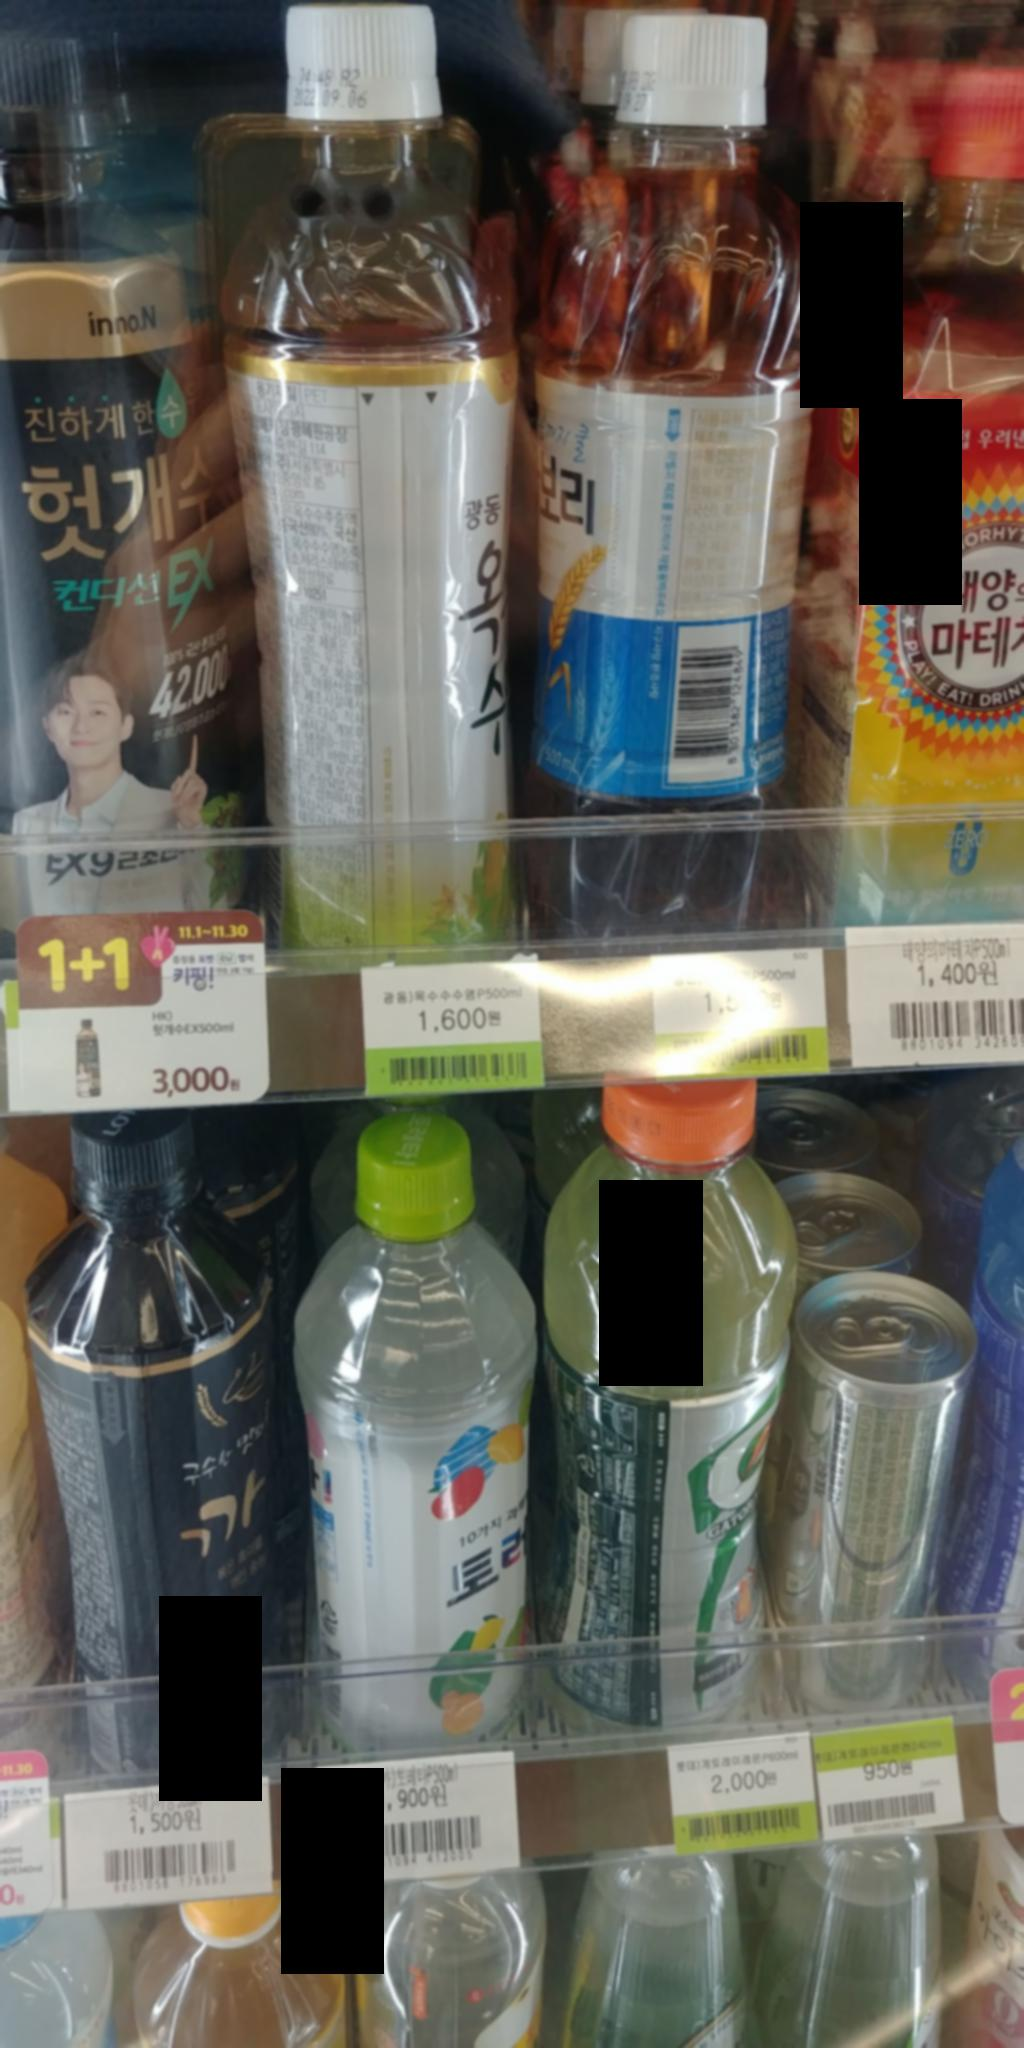gatorade_lemon: (522, 1063, 799, 1748)
haneulbori: (537, 0, 819, 952)
oksususuyeomcha: (227, 0, 549, 946)
toreta: (272, 1092, 543, 1740)
